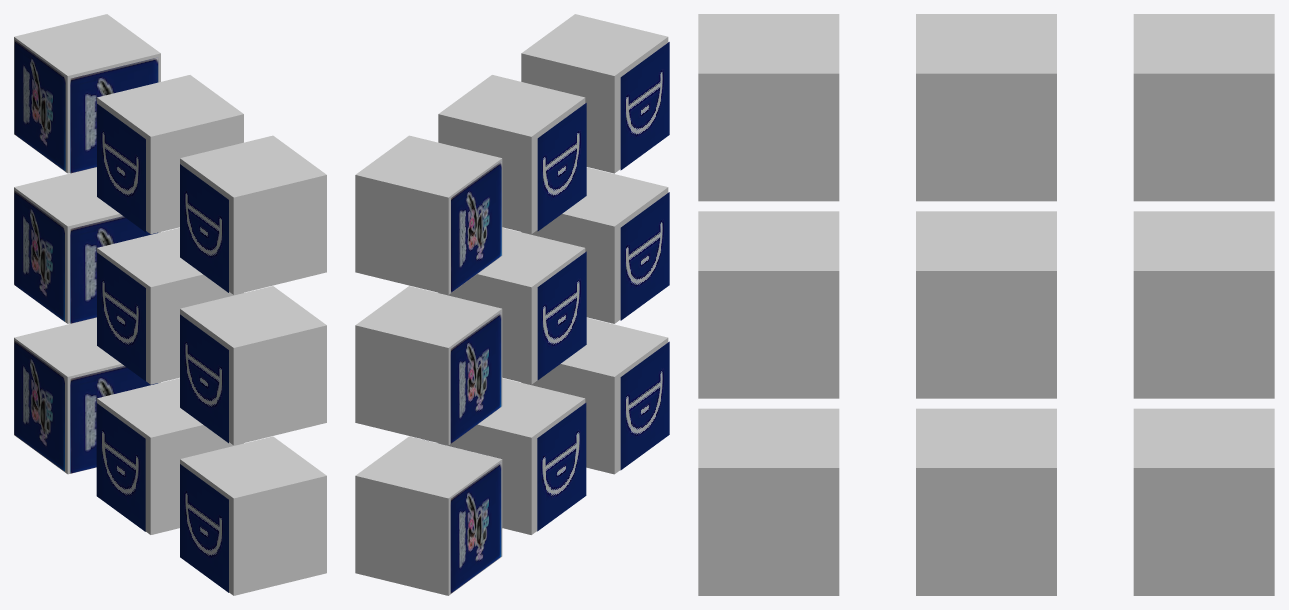
File: tictoc.dae
3 renders of one model, left to right at view 1: azimuth 30°, elevation 25°; view 2: azimuth 150°, elevation 25°; view 3: azimuth 270°, elevation 25°, orthographic. The views are drawn at different scales.
Visible parts, largest first — view 1: Link24, R1.002, R1.001, R1, R2, R2.005, R2.004, R2.002, R2.003, R2.001, R1.003, R1.005 (+1 smaller); view 2: Link24, R1, R1.001, R1.002, R2.003, R2.002, R2.005, R2.004, R2.001, R2; view 3: Link24.
Part boxes in pixels (x1,y1,x2,y2): Link24: (14, 14, 326, 595); R1.002: (14, 40, 65, 171); R1.001: (14, 190, 64, 321); R1: (14, 340, 64, 471); R2: (96, 403, 145, 531); R2.005: (180, 164, 228, 292); R2.004: (180, 314, 228, 443); R2.002: (97, 104, 145, 232); R2.003: (180, 464, 228, 592); R2.001: (97, 252, 145, 381); R1.003: (70, 57, 158, 173); R1.005: (70, 366, 157, 473); Link24: (355, 14, 668, 595); R1: (450, 462, 501, 593); R1.001: (450, 312, 501, 443); R1.002: (451, 161, 501, 292); R2.003: (620, 341, 669, 470); R2.002: (537, 103, 586, 231); R2.005: (620, 42, 669, 170); R2.004: (620, 192, 669, 320); R2.001: (537, 251, 586, 379); R2: (537, 403, 586, 531); Link24: (698, 14, 1274, 595).
Size of the model in its own units: 0.3615 by 1.43 by 1.43.
Materials: 2 (2 with a texture image).
